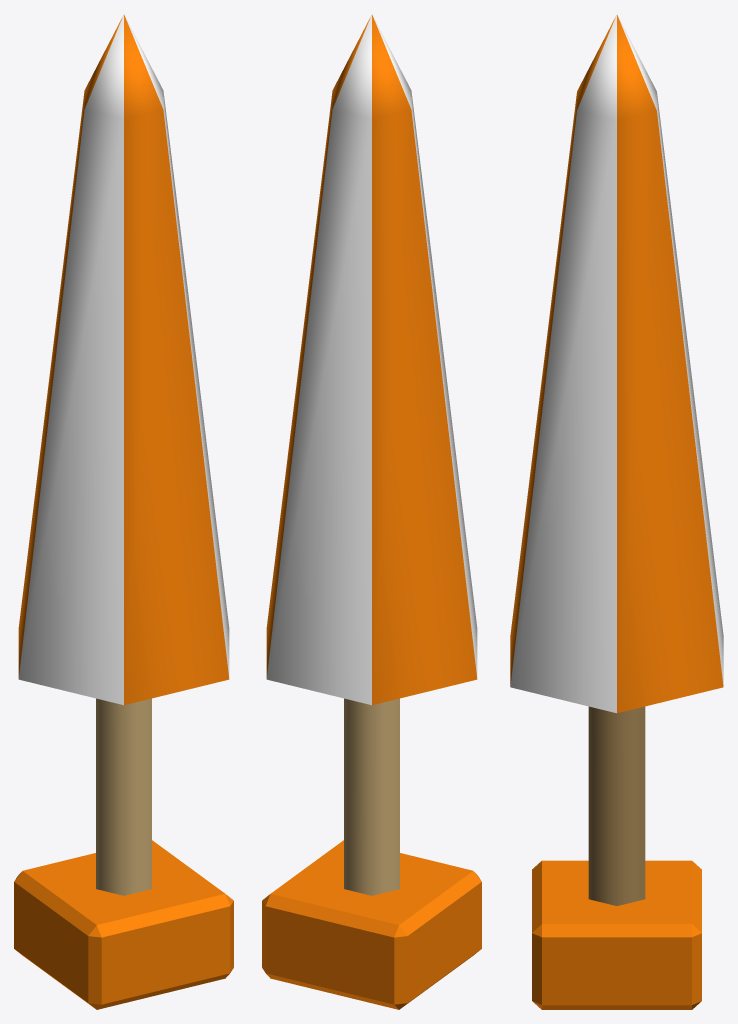
The picture shows the model from 3 angles, left to right: view 1: azimuth 30°, elevation 25°; view 2: azimuth 150°, elevation 25°; view 3: azimuth 270°, elevation 25°; orthographic projection.
Parts seen in each view (by area): view 1: o; view 2: o; view 3: o.
Part boxes in pixels (bbox=[...]): o: bbox=[14, 14, 233, 1009]; o: bbox=[262, 14, 481, 1009]; o: bbox=[510, 14, 723, 1009].
Size of the model in its own units: 106 by 458 by 91.7.
